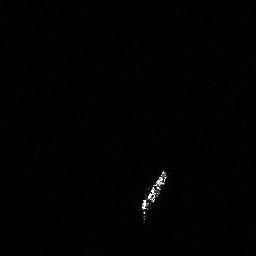ship: (138, 165, 171, 224)
